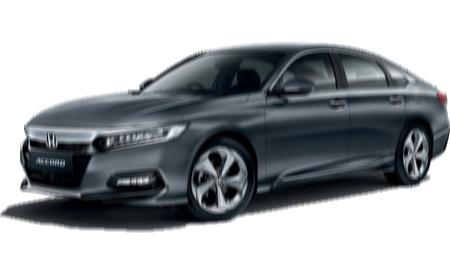Car hood: (25, 92, 257, 130)
Fender - -F-L-: (183, 93, 266, 199)
Fender - -R-L-: (396, 68, 441, 154)
Front bumper: (19, 136, 193, 210)
Headlight - -L-: (87, 122, 190, 159)
Passenger-s door - -F-L-: (261, 41, 355, 197)
Passenger-s door - -R-L-: (330, 40, 410, 188)
Rear bumper: (427, 124, 450, 162)
Rear light - -L-: (436, 90, 449, 111)
Side bumper - -L-: (259, 153, 398, 201)
Side mirror - -L-: (276, 78, 317, 101)
